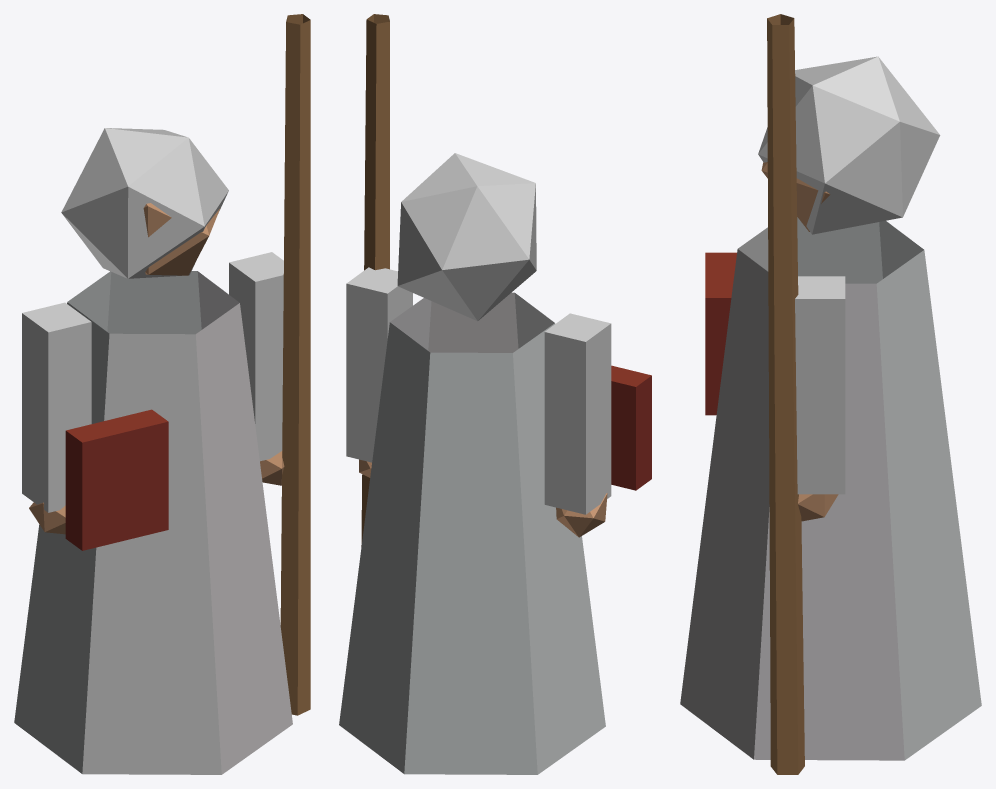
The model's file is Missionary.glb.
The picture shows the model from 3 angles, left to right: view 1: azimuth 30°, elevation 25°; view 2: azimuth 150°, elevation 25°; view 3: azimuth 270°, elevation 25°; orthographic projection. The views are drawn at different scales.
Visible parts, largest first — view 1: Units_Missionary; view 2: Units_Missionary; view 3: Units_Missionary.
Boxes of the visible parts, x1=… form: Units_Missionary: x1=14, y1=14, x2=310, y2=774; Units_Missionary: x1=339, y1=14, x2=651, y2=774; Units_Missionary: x1=680, y1=14, x2=981, y2=774.
Size of the model in its own units: 0.091 by 0.2301 by 0.084.
